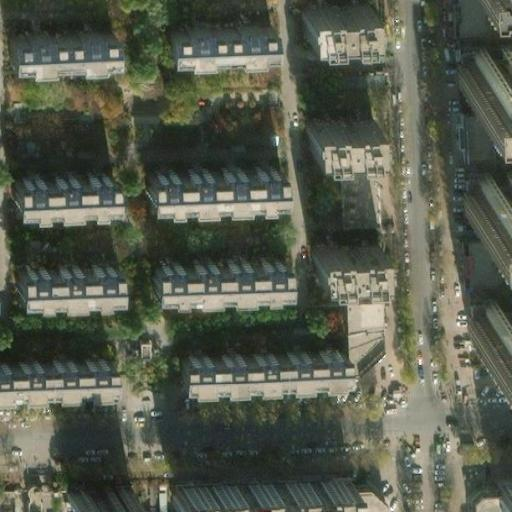building: (169, 337, 334, 377), (165, 475, 339, 512), (143, 158, 278, 200), (149, 248, 284, 290), (165, 489, 372, 512), (336, 261, 376, 379), (0, 346, 106, 389), (16, 252, 115, 295), (13, 163, 112, 206), (160, 13, 267, 52), (0, 17, 107, 56), (331, 139, 373, 216), (302, 231, 371, 270), (457, 72, 487, 160), (301, 110, 369, 148), (454, 170, 512, 208), (459, 295, 512, 334), (59, 477, 118, 512), (454, 0, 484, 53), (456, 201, 485, 253), (466, 488, 512, 512), (461, 326, 492, 354), (491, 479, 512, 511), (122, 334, 141, 351), (460, 296, 476, 309), (455, 172, 467, 184)
